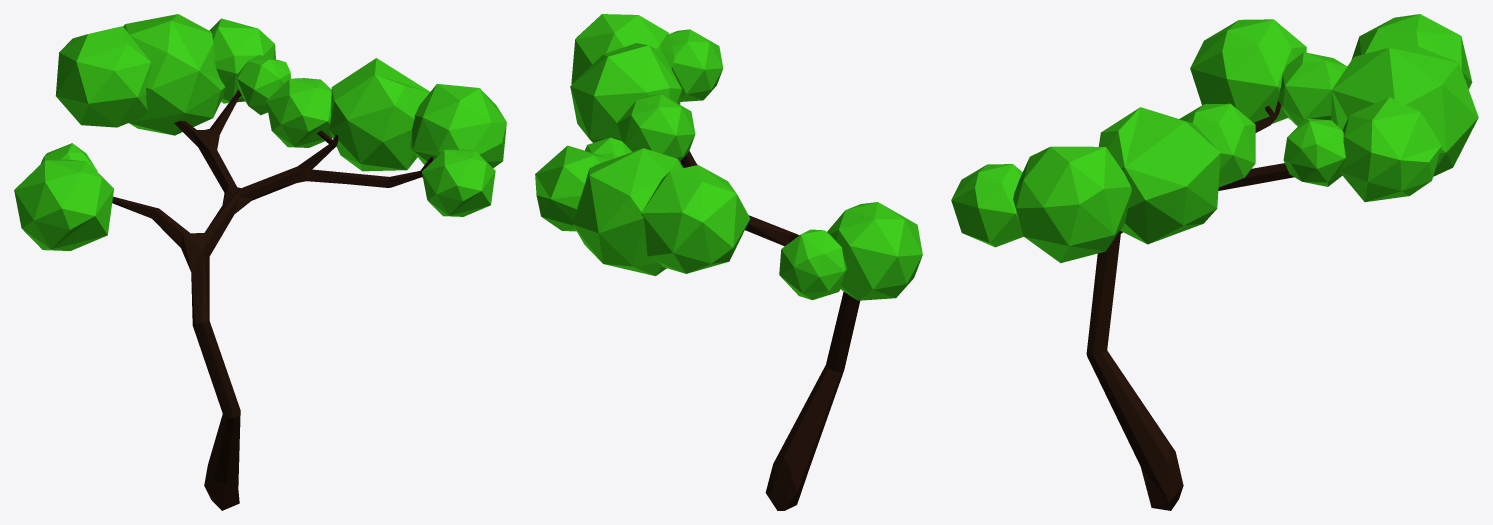
The model's file is lowPolyTree4.obj.
The picture shows the model from 3 angles, left to right: view 1: azimuth 30°, elevation 25°; view 2: azimuth 150°, elevation 25°; view 3: azimuth 270°, elevation 25°; orthographic projection. The views are drawn at different scales.
Parts seen in each view (by area): view 1: Cube.001_Cube.004, Icosphere.006, Icosphere.012, Icosphere.005, Icosphere.010, Icosphere.013, Icosphere.014, Icosphere.011, Icosphere.007, Icosphere.008, Icosphere.009; view 2: Icosphere.005, Icosphere.006, Cube.001_Cube.004, Icosphere.010, Icosphere.012, Icosphere.011, Icosphere.009, Icosphere.007, Icosphere.013, Icosphere.014, Icosphere.008; view 3: Icosphere.012, Icosphere.013, Icosphere.006, Cube.001_Cube.004, Icosphere.007, Icosphere.010, Icosphere.014, Icosphere.009, Icosphere.011, Icosphere.008, Icosphere.005.
Boxes of the visible parts, bbox=[...] form: Cube.001_Cube.004: bbox=[112, 89, 433, 510]; Icosphere.006: bbox=[123, 14, 225, 135]; Icosphere.012: bbox=[329, 58, 429, 171]; Icosphere.005: bbox=[55, 26, 151, 127]; Icosphere.010: bbox=[14, 159, 113, 250]; Icosphere.013: bbox=[410, 84, 506, 168]; Icosphere.014: bbox=[422, 149, 495, 216]; Icosphere.011: bbox=[266, 78, 332, 147]; Icosphere.007: bbox=[209, 18, 275, 103]; Icosphere.008: bbox=[236, 55, 290, 115]; Icosphere.009: bbox=[41, 143, 97, 171]; Icosphere.005: bbox=[641, 165, 750, 273]; Icosphere.006: bbox=[572, 148, 683, 275]; Cube.001_Cube.004: bbox=[680, 151, 859, 510]; Icosphere.010: bbox=[827, 202, 922, 300]; Icosphere.012: bbox=[570, 43, 681, 142]; Icosphere.011: bbox=[617, 94, 695, 161]; Icosphere.009: bbox=[779, 229, 846, 300]; Icosphere.007: bbox=[535, 145, 611, 231]; Icosphere.013: bbox=[571, 14, 674, 83]; Icosphere.014: bbox=[669, 29, 723, 101]; Icosphere.008: bbox=[585, 137, 631, 158]; Icosphere.012: bbox=[1098, 107, 1220, 244]; Icosphere.013: bbox=[1013, 146, 1131, 263]; Icosphere.006: bbox=[1331, 43, 1478, 176]; Cube.001_Cube.004: bbox=[1086, 100, 1293, 510]; Icosphere.007: bbox=[1339, 97, 1441, 202]; Icosphere.010: bbox=[1190, 19, 1306, 123]; Icosphere.014: bbox=[951, 164, 1023, 247]; Icosphere.009: bbox=[1278, 52, 1347, 126]; Icosphere.011: bbox=[1179, 103, 1255, 187]; Icosphere.008: bbox=[1283, 118, 1345, 186]; Icosphere.005: bbox=[1351, 14, 1472, 89].
Bounding box in the file's own units: 6.02 × 5.87 × 5.78.
